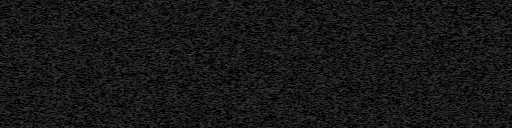wv_am: (77, 0, 82, 128)
wv_cw: (45, 0, 50, 128)
wv_lsb: (129, 12, 135, 105), (65, 50, 71, 128), (65, 1, 71, 49), (68, 17, 73, 49), (129, 106, 135, 128), (68, 1, 73, 16), (68, 69, 72, 87), (68, 55, 72, 68), (129, 3, 135, 11), (68, 90, 72, 97), (69, 115, 72, 122), (69, 102, 72, 109), (68, 110, 72, 114), (68, 50, 72, 54), (68, 125, 72, 128)
wv_usb: (43, 2, 49, 127), (104, 51, 109, 128), (104, 17, 109, 50), (104, 3, 108, 12)
wv_wbfm: (25, 0, 33, 128)
